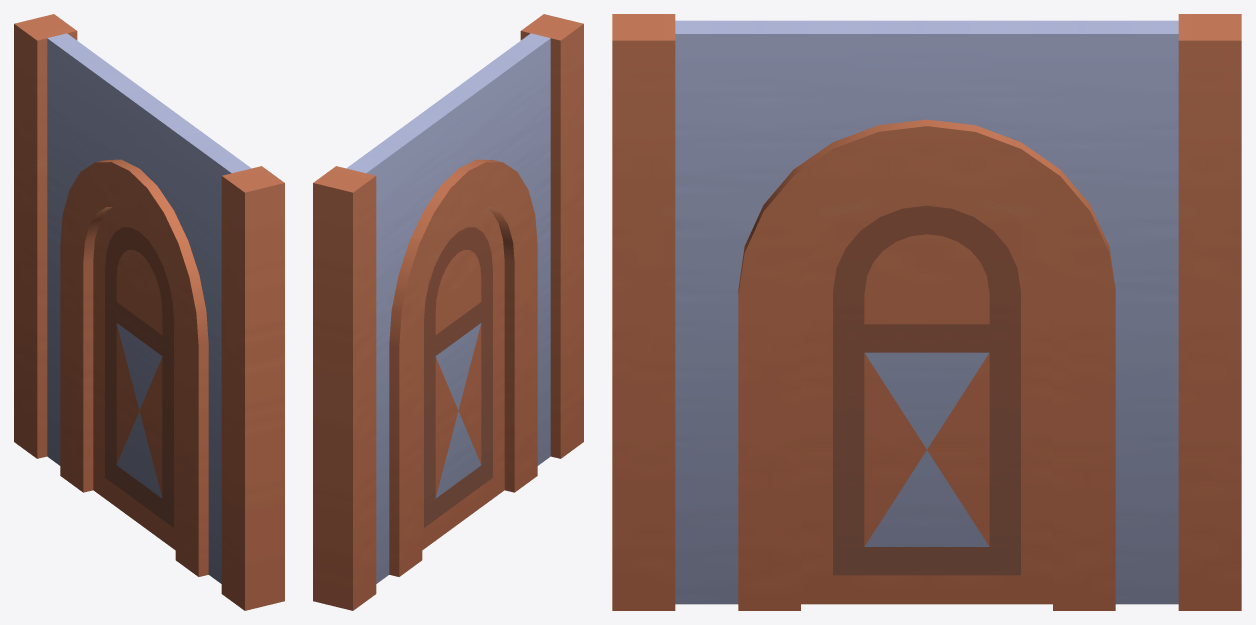
The model's file is wallDoor.fbx.
3 renders of one model, left to right at view 1: azimuth 30°, elevation 25°; view 2: azimuth 150°, elevation 25°; view 3: azimuth 270°, elevation 25°, orthographic. The views are drawn at different scales.
Parts seen in each view (by area): view 1: wallDoor, door.001; view 2: wallDoor, door.001; view 3: wallDoor, door.001.
Boxes of the visible parts, box(x1,y1,x2,y2) form: wallDoor: box(14, 14, 284, 610); door.001: box(93, 207, 175, 550); wallDoor: box(313, 14, 583, 610); door.001: box(422, 207, 504, 550); wallDoor: box(612, 14, 1241, 610); door.001: box(801, 183, 1052, 604).
Bounding box in the file's own units: 0.1 × 1 × 1.
